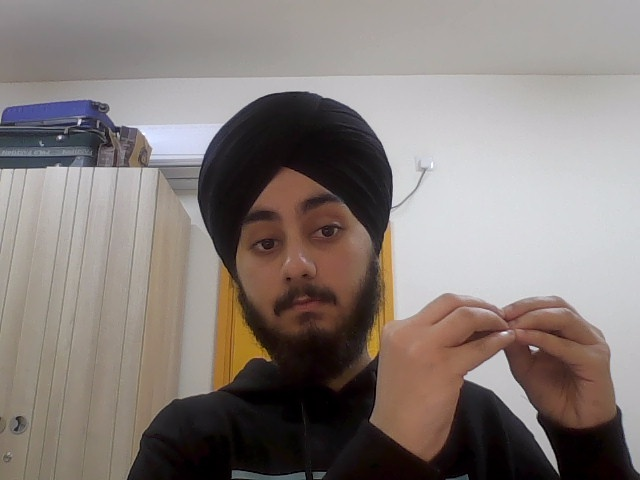More: (375, 274, 623, 453)
